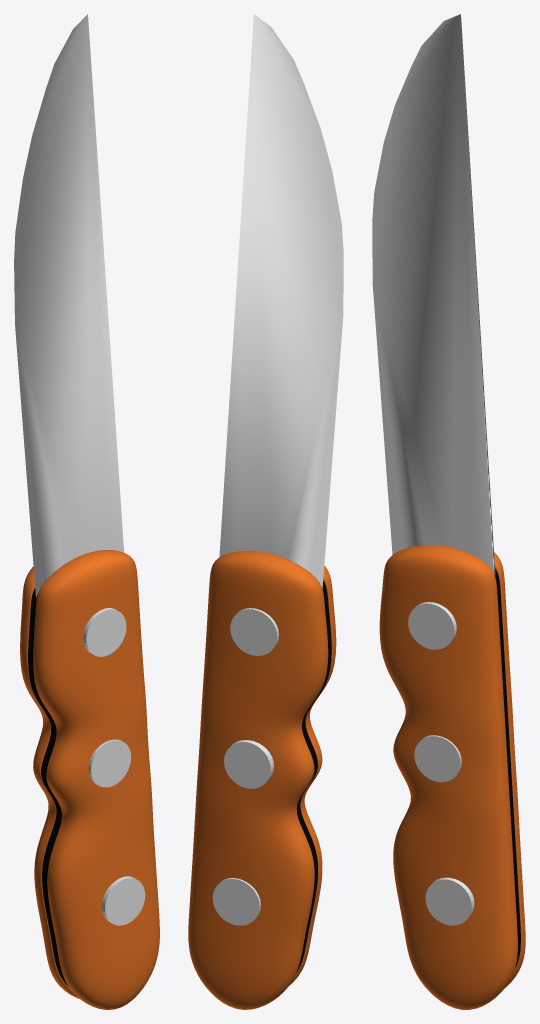
Rendered from tmcolor.glb.
3 views of the same model, side by side, from view 1: azimuth 30°, elevation 25°; view 2: azimuth 150°, elevation 25°; view 3: azimuth 330°, elevation 25° (orthographic).
Visible parts, largest first — view 1: Cube.002; view 2: Cube.002; view 3: Cube.002.
Part boxes in pixels (bbox=[...]): Cube.002: bbox=[14, 14, 159, 1009]; Cube.002: bbox=[188, 14, 343, 1009]; Cube.002: bbox=[372, 14, 525, 1009].
Size of the model in its own units: 0.1458 by 0.9569 by 0.0762.
